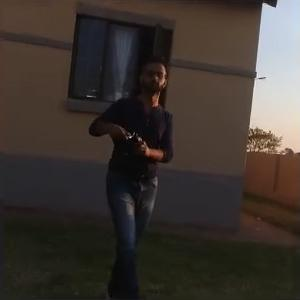follow: (82, 45, 191, 298)
